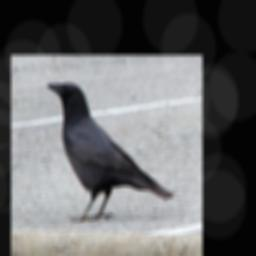Crow: (46, 82, 174, 222)
